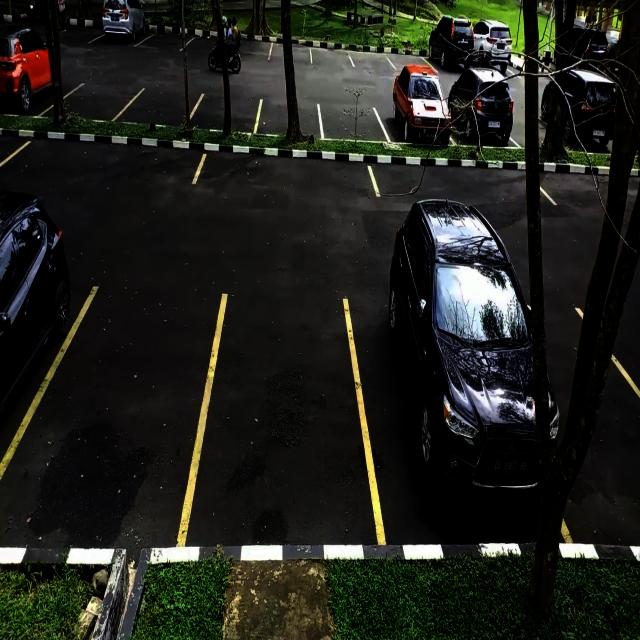empty: (20, 288, 214, 549), (198, 295, 370, 548), (5, 136, 205, 184), (196, 153, 377, 200), (128, 85, 196, 124), (319, 102, 385, 140), (192, 96, 258, 134), (256, 100, 322, 138), (64, 83, 128, 122), (270, 36, 313, 65), (144, 25, 187, 53), (310, 41, 353, 67), (351, 46, 391, 72), (236, 33, 272, 61)
occupied: (351, 221, 535, 548), (0, 199, 76, 470), (387, 77, 453, 144), (456, 76, 514, 148), (0, 36, 51, 115), (101, 2, 147, 47)
